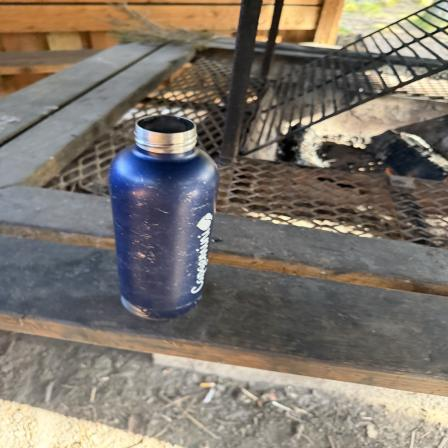blue_bottle: (106, 114, 219, 322)
